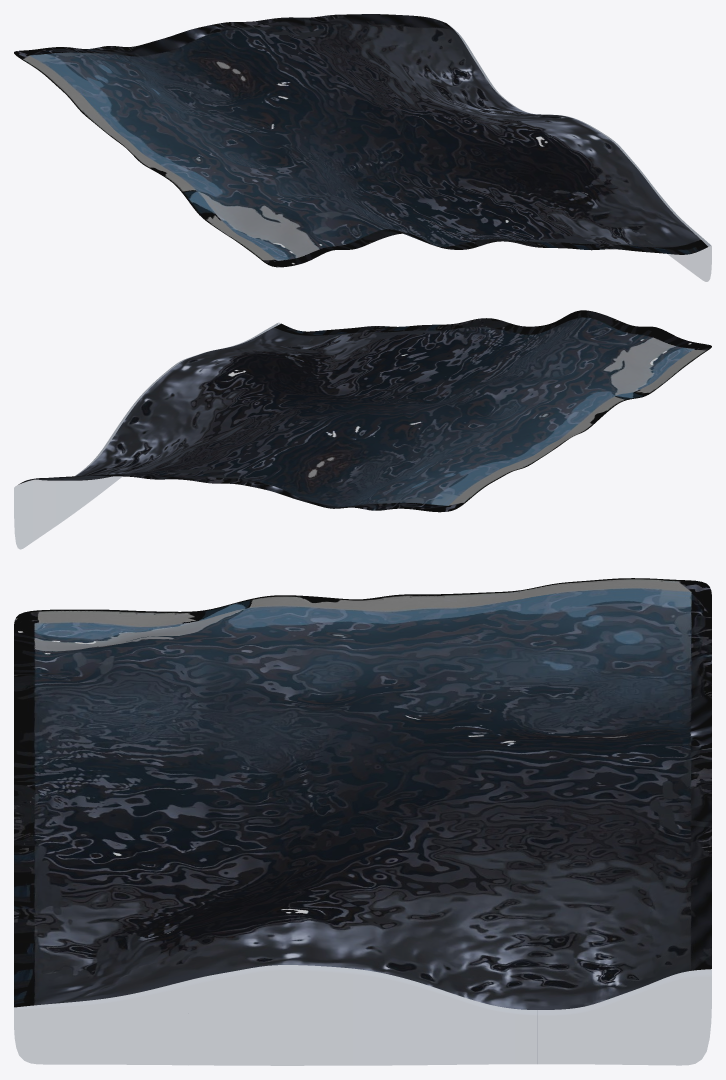
Rendered from water5.glb.
The picture shows the model from 3 angles, top to bottom: view 1: azimuth 30°, elevation 25°; view 2: azimuth 150°, elevation 25°; view 3: azimuth 270°, elevation 25°; orthographic projection. The views are drawn at different scales.
Visible parts, largest first — view 1: Plane.disp.001; view 2: Plane.disp.001; view 3: Plane.disp.001.
Part boxes in pixels (box(x1,y1,x2,y2)): Plane.disp.001: box(14, 14, 711, 281); Plane.disp.001: box(14, 310, 711, 548); Plane.disp.001: box(14, 578, 711, 1065).
Size of the model in its own units: 2.07 by 0.6806 by 2.13.
2 materials, 1 textured.
